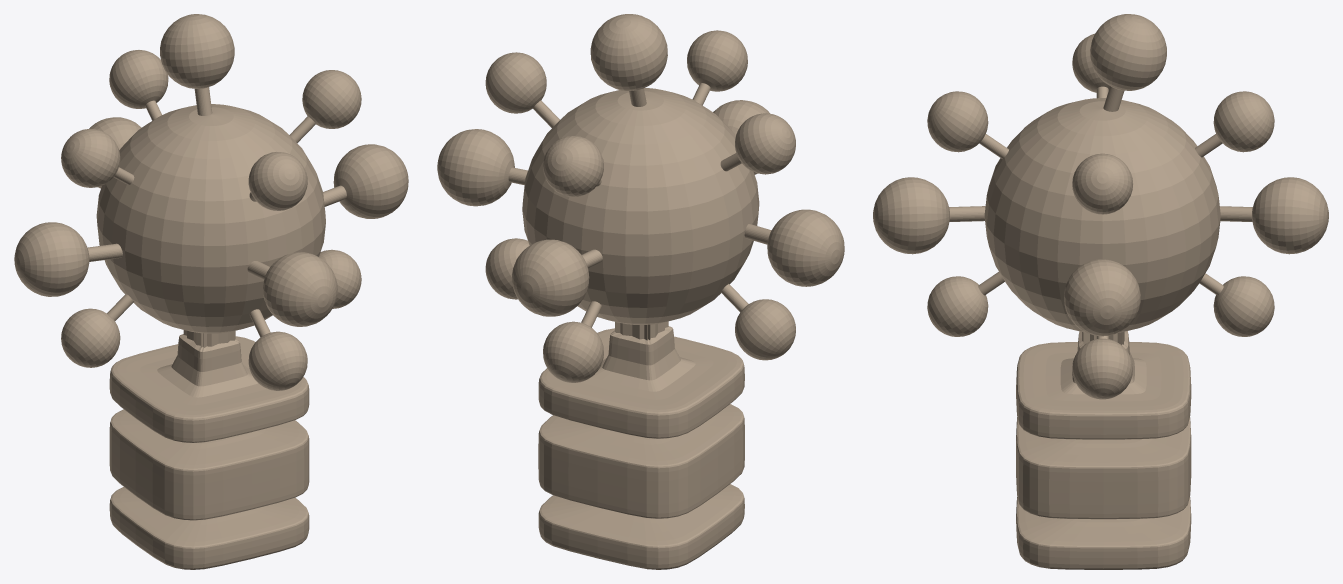
File: T_Virus.fbx
The picture shows the model from 3 angles, left to right: view 1: azimuth 30°, elevation 25°; view 2: azimuth 150°, elevation 25°; view 3: azimuth 270°, elevation 25°; orthographic projection. The views are drawn at different scales.
Visible parts, largest first — view 1: TokenVirus; view 2: TokenVirus; view 3: TokenVirus.
Boxes of the visible parts, x1=… form: TokenVirus: x1=14, y1=14, x2=408, y2=569; TokenVirus: x1=437, y1=14, x2=844, y2=569; TokenVirus: x1=873, y1=14, x2=1328, y2=569.
Size of the model in its own units: 60.62 by 76.05 by 60.62.
